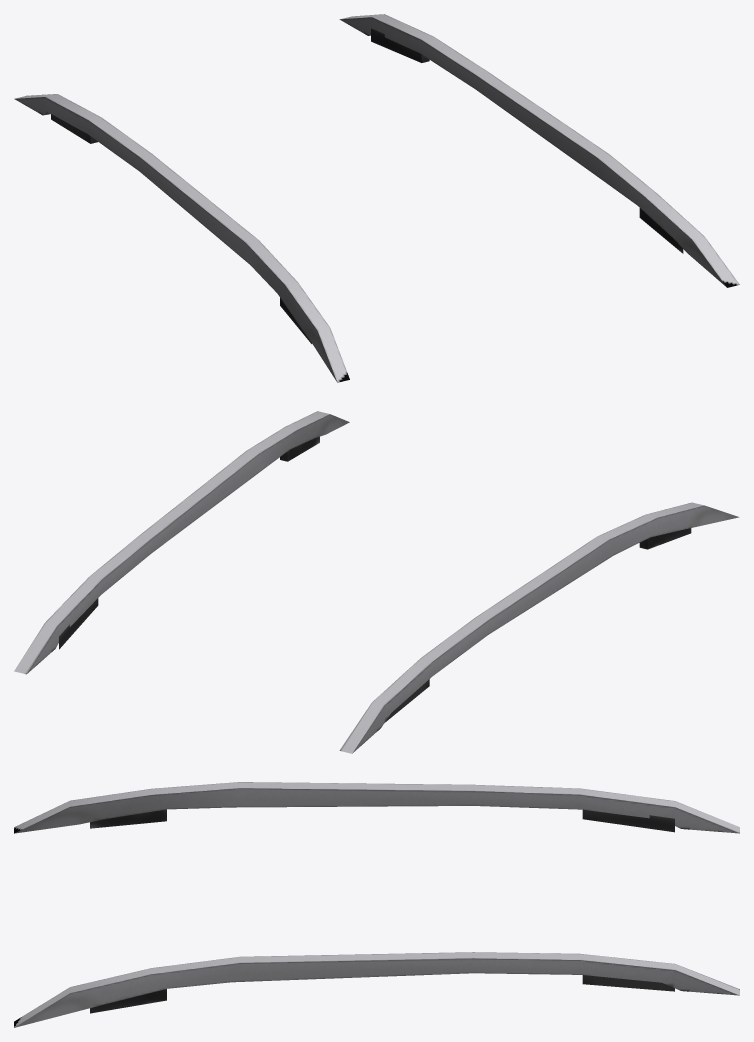
Rendered from dinglangan.FBX.
3 views of the same model, one above another, from view 1: azimuth 30°, elevation 25°; view 2: azimuth 150°, elevation 25°; view 3: azimuth 270°, elevation 25° (orthographic). The views are drawn at different scales.
Visible parts, largest first — view 1: Box167, Box156; view 2: Box156, Box167; view 3: Box156, Box167.
Boxes of the visible parts, x1,y1,x2,y2 form: Box167: (339,14,739,287); Box156: (14,94,349,382); Box156: (339,502,739,753); Box167: (14,411,349,674); Box156: (14,782,739,833); Box167: (14,952,739,1027).
Bounding box in the file's own units: 511 × 66.72 × 782.
